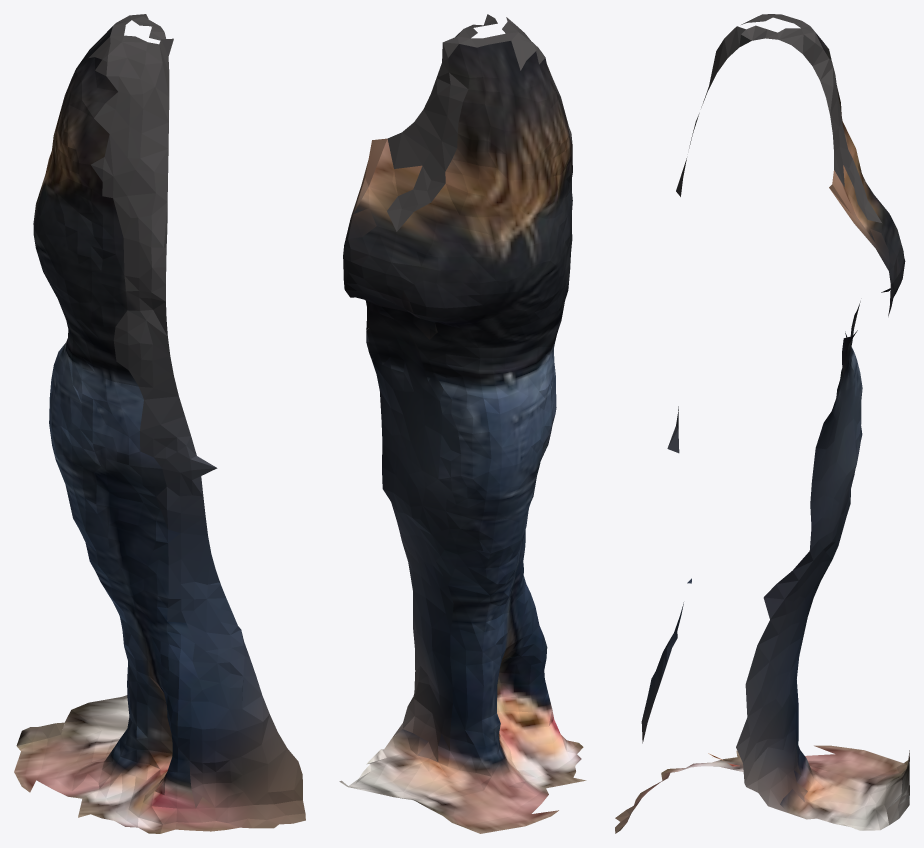
3 views of the same model, side by side, from view 1: azimuth 30°, elevation 25°; view 2: azimuth 150°, elevation 25°; view 3: azimuth 270°, elevation 25° (orthographic). The views are drawn at different scales.
Bounding box in the file's own units: 0.3806 × 1.52 × 0.5295.
1 material, 1 textured.
